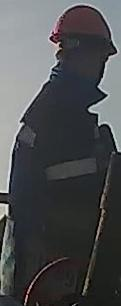helmet: (48, 3, 119, 57)
vest: (7, 79, 120, 305)
